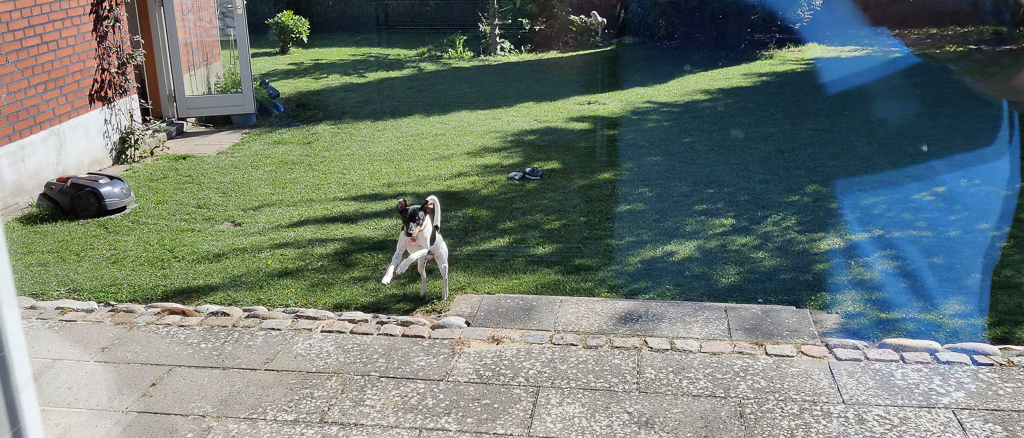Dog: (374, 184, 461, 309)
Eagle: (583, 8, 609, 41)
Humanoid: (244, 73, 290, 121)
